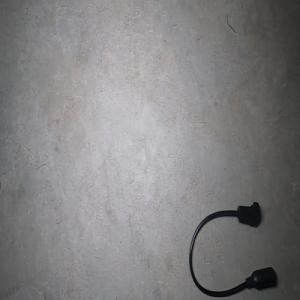Wire: (189, 201, 277, 298)
